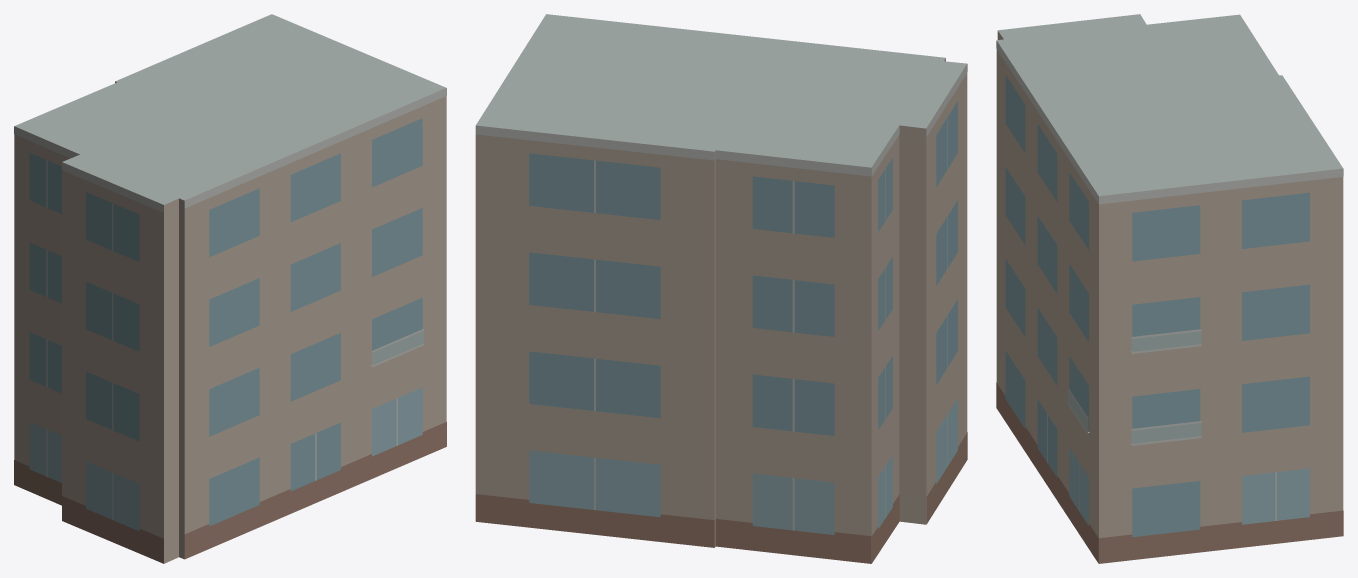
Rendered from survey-upis-32618938.glb.
3 views of the same model, side by side, from view 1: azimuth 30°, elevation 25°; view 2: azimuth 150°, elevation 25°; view 3: azimuth 270°, elevation 25° (orthographic). The views are drawn at different scales.
Visible parts, largest first — view 1: survey-upis-32618938.tmp; view 2: survey-upis-32618938.tmp; view 3: survey-upis-32618938.tmp.
Part boxes in pixels (x1,y1,x2,y2): survey-upis-32618938.tmp: (14, 14, 446, 563); survey-upis-32618938.tmp: (475, 14, 967, 563); survey-upis-32618938.tmp: (996, 14, 1343, 563).
Size of the model in its own units: 11.6 by 10.9 by 9.34.
